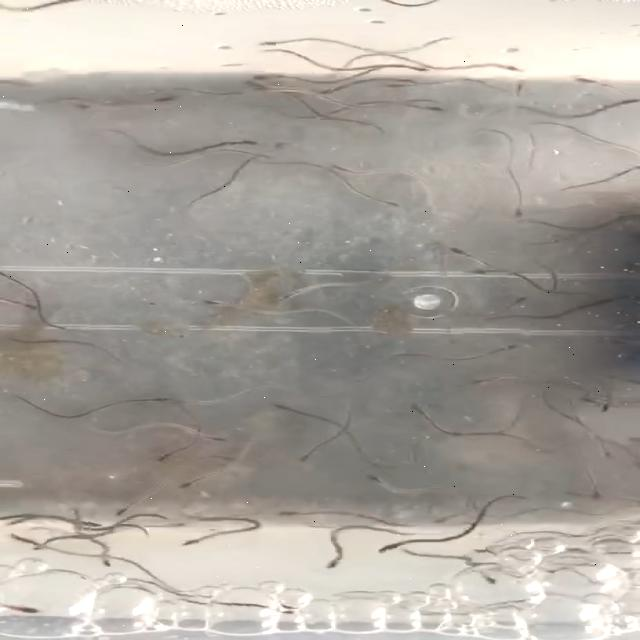active_glass_eel: (276, 282, 326, 302), (171, 533, 219, 551), (239, 136, 295, 150), (242, 69, 296, 83), (266, 401, 314, 416), (112, 501, 152, 519), (372, 538, 412, 556), (292, 446, 327, 466), (154, 446, 192, 464), (359, 466, 391, 487), (462, 266, 509, 280), (448, 242, 484, 260), (88, 549, 120, 569), (505, 200, 533, 222), (318, 554, 352, 572), (404, 399, 436, 418), (434, 509, 477, 523), (565, 71, 611, 84), (254, 84, 296, 98), (15, 296, 47, 314), (178, 474, 214, 490), (270, 508, 318, 520), (70, 515, 106, 531), (200, 433, 238, 448), (413, 101, 459, 113), (480, 568, 509, 586), (8, 602, 51, 614), (147, 93, 179, 109), (370, 195, 402, 211), (189, 296, 231, 308), (492, 294, 528, 308), (490, 342, 526, 356), (141, 392, 183, 404), (30, 536, 60, 552), (582, 482, 606, 502), (596, 436, 614, 461), (483, 62, 525, 72), (328, 163, 358, 177), (252, 36, 280, 50), (514, 75, 530, 99), (396, 65, 431, 75), (472, 376, 512, 384)
